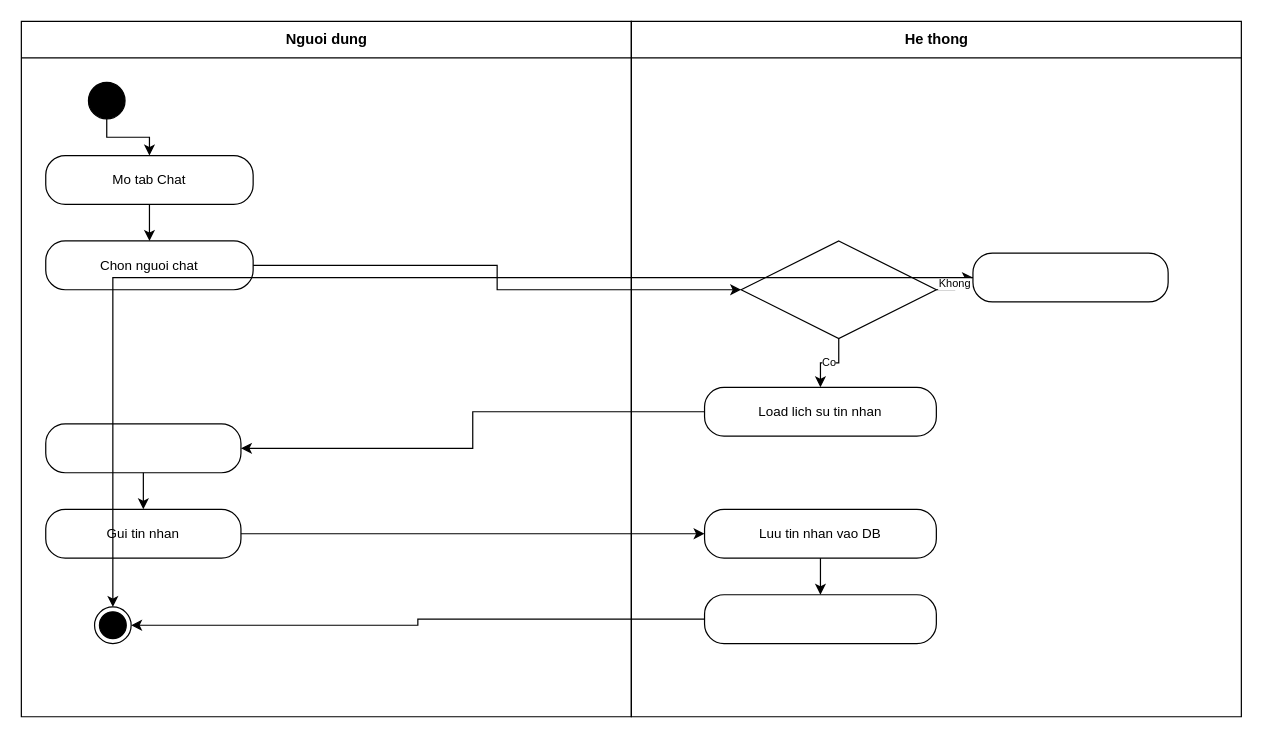
This 1263x738 diagram has some shape labels left out. The shapes that lost their labels are listed below. From the top down, each one's box as (x1, y1, x2, y2) in pixels, then its label:
(740, 240, 936, 339): Dung cap chat?
(972, 252, 1168, 302): Tu choi thao tac
(45, 423, 241, 473): Nhap tin nhan
(703, 594, 936, 644): Hien thi tin nhan
